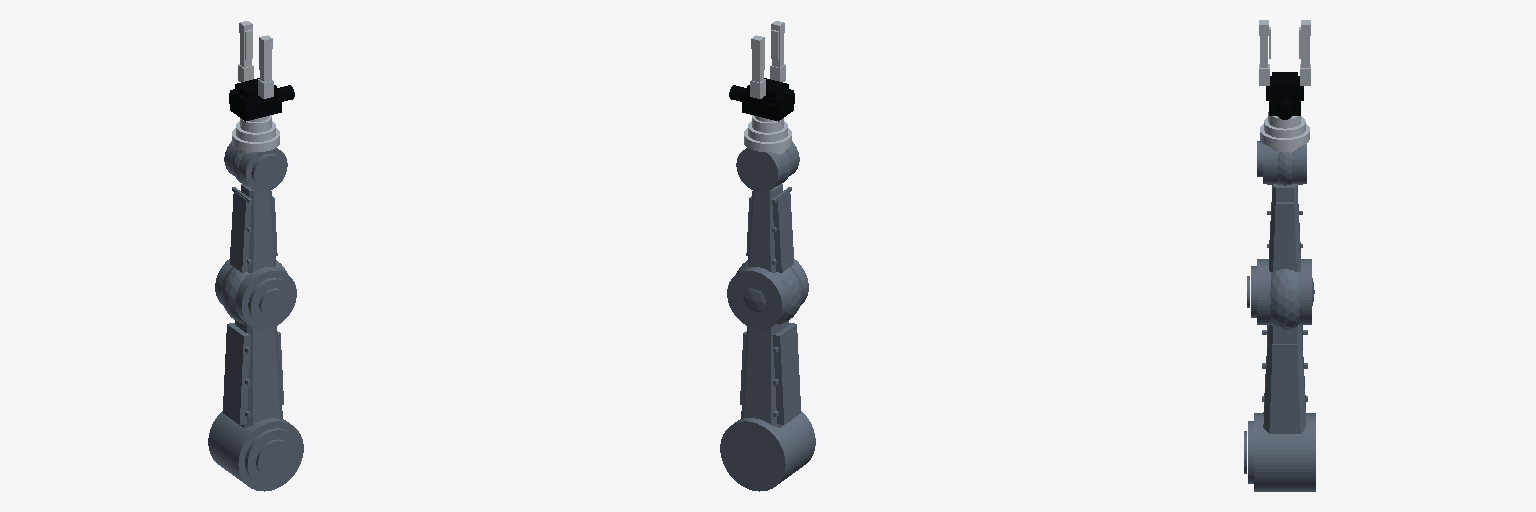
URDF robot description (the_turk_pro):
<?xml version="1.0"?>
<robot name="the_turk_pro">
<material name="graphite"><color rgba="0.055 0.065 0.080 1"/></material>
<material name="metal"><color rgba="0.42 0.46 0.52 1"/></material>
<material name="silver"><color rgba="0.72 0.75 0.79 1"/></material>
<link name="base_link"><inertial><origin xyz="0 0 0.11"/><mass value="4.8"/><inertia ixx="0.080" ixy="0" ixz="0" iyy="0.080" iyz="0" izz="0.105"/></inertial><visual><geometry><mesh filename="package://the_turk_core/meshes/base_link.stl"/></geometry><material name="graphite"/></visual><collision><origin xyz="0 0 0.12"/><geometry><cylinder radius="0.24" length="0.24"/></geometry></collision></link>
<link name="link1"><inertial><origin xyz="0 0 0.30"/><mass value="3.2"/><inertia ixx="0.110" ixy="0" ixz="0" iyy="0.095" iyz="0" izz="0.035"/></inertial><visual><geometry><mesh filename="package://the_turk_core/meshes/link1.stl"/></geometry><material name="metal"/></visual><collision><origin xyz="0 0 0.30"/><geometry><box size="0.18 0.18 0.58"/></geometry></collision></link>
<joint name="joint1" type="revolute"><parent link="base_link"/><child link="link1"/><origin xyz="0 0 0.28"/><axis xyz="0 1 0"/><limit lower="-1.5708" upper="1.5708" effort="20" velocity="1.0"/><dynamics damping="0.7" friction="0.2"/></joint>
<link name="link2"><inertial><origin xyz="0 0 0.24"/><mass value="2.1"/><inertia ixx="0.055" ixy="0" ixz="0" iyy="0.045" iyz="0" izz="0.020"/></inertial><visual><geometry><mesh filename="package://the_turk_core/meshes/link2.stl"/></geometry><material name="metal"/></visual><collision><origin xyz="0 0 0.24"/><geometry><box size="0.14 0.15 0.48"/></geometry></collision></link>
<joint name="joint2" type="revolute"><parent link="link1"/><child link="link2"/><origin xyz="0 0 0.58"/><axis xyz="0 1 0"/><limit lower="-2.0944" upper="2.0944" effort="15" velocity="1.2"/><dynamics damping="0.5" friction="0.15"/></joint>
<link name="wrist_link"><inertial><origin xyz="0 0 0.09"/><mass value="0.65"/><inertia ixx="0.008" ixy="0" ixz="0" iyy="0.008" iyz="0" izz="0.012"/></inertial><visual><geometry><mesh filename="package://the_turk_core/meshes/wrist_link.stl"/></geometry><material name="silver"/></visual><collision><origin xyz="0 0 0.09"/><geometry><cylinder radius="0.085" length="0.20"/></geometry></collision></link>
<joint name="wrist_fixed_joint" type="fixed"><parent link="link2"/><child link="wrist_link"/><origin xyz="0 0 0.48"/></joint>
<link name="gripper_base"><inertial><origin xyz="0 0 0.055"/><mass value="0.55"/><inertia ixx="0.004" ixy="0" ixz="0" iyy="0.004" iyz="0" izz="0.006"/></inertial><visual><geometry><mesh filename="package://the_turk_core/meshes/gripper_base.stl"/></geometry><material name="graphite"/></visual><collision><origin xyz="0 0 0.055"/><geometry><box size="0.16 0.13 0.11"/></geometry></collision></link>
<joint name="gripper_base_joint" type="fixed"><parent link="wrist_link"/><child link="gripper_base"/><origin xyz="0 0 0.19"/></joint>
<link name="left_finger"><inertial><origin xyz="0 0 0.10"/><mass value="0.16"/><inertia ixx="0.001" ixy="0" ixz="0" iyy="0.001" iyz="0" izz="0.0002"/></inertial><visual><geometry><mesh filename="package://the_turk_core/meshes/left_finger.stl"/></geometry><material name="silver"/></visual><collision><origin xyz="0 0 0.11"/><geometry><box size="0.04 0.04 0.22"/></geometry></collision></link>
<joint name="left_finger_joint" type="fixed"><parent link="gripper_base"/><child link="left_finger"/><origin xyz="0 0.068 0.085"/></joint>
<link name="right_finger"><inertial><origin xyz="0 0 0.10"/><mass value="0.16"/><inertia ixx="0.001" ixy="0" ixz="0" iyy="0.001" iyz="0" izz="0.0002"/></inertial><visual><geometry><mesh filename="package://the_turk_core/meshes/right_finger.stl"/></geometry><material name="silver"/></visual><collision><origin xyz="0 0 0.11"/><geometry><box size="0.04 0.04 0.22"/></geometry></collision></link>
<joint name="right_finger_joint" type="fixed"><parent link="gripper_base"/><child link="right_finger"/><origin xyz="0 -0.068 0.085"/></joint>
</robot>

--- What the picture shows (computed from the rendered views, not written in the file) ---
Views: 3 orthographic renders of the robot side by side, from view 1: azimuth 30°, elevation 25°; view 2: azimuth 150°, elevation 25°; view 3: azimuth 270°, elevation 25°.
Robot: the_turk_pro — 7 links, 6 joints (2 revolute, 4 fixed); root link base_link; default pose: every joint at zero.
Visible links, largest first — view 1: link1, link2, gripper_base, wrist_link, right_finger, left_finger; view 2: link1, link2, gripper_base, wrist_link, left_finger, right_finger; view 3: link1, link2, gripper_base, wrist_link, left_finger, right_finger.
Boxes of the visible links, <box> form: link1: <box>208,259,303,491</box>; link2: <box>224,141,287,272</box>; gripper_base: <box>229,78,294,121</box>; wrist_link: <box>232,115,279,154</box>; right_finger: <box>258,35,273,98</box>; left_finger: <box>238,21,253,81</box>; link1: <box>720,259,815,491</box>; link2: <box>736,141,799,272</box>; gripper_base: <box>729,78,794,121</box>; wrist_link: <box>744,115,791,154</box>; left_finger: <box>750,35,765,98</box>; right_finger: <box>770,21,785,81</box>; link1: <box>1244,259,1315,491</box>; link2: <box>1257,141,1306,271</box>; gripper_base: <box>1266,72,1303,119</box>; wrist_link: <box>1260,112,1309,152</box>; left_finger: <box>1299,20,1310,85</box>; right_finger: <box>1259,20,1270,85</box>.
Bounding box of the posed robot: 0.2655 × 0.2375 × 1.68 m (x, y, z).
Meshes: 7 distinct files referenced, 6 mesh visuals loaded (6 binary STL); not drawn: 1 (reference not matched to a file when rendering).
